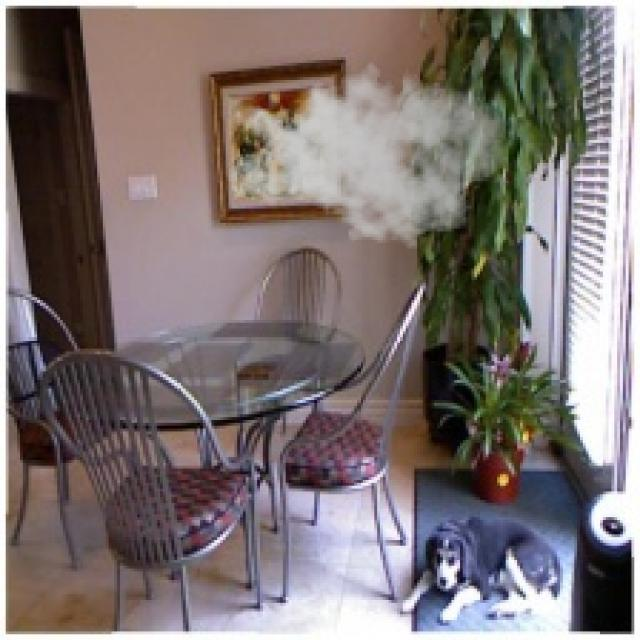smoke: (226, 52, 508, 255)
